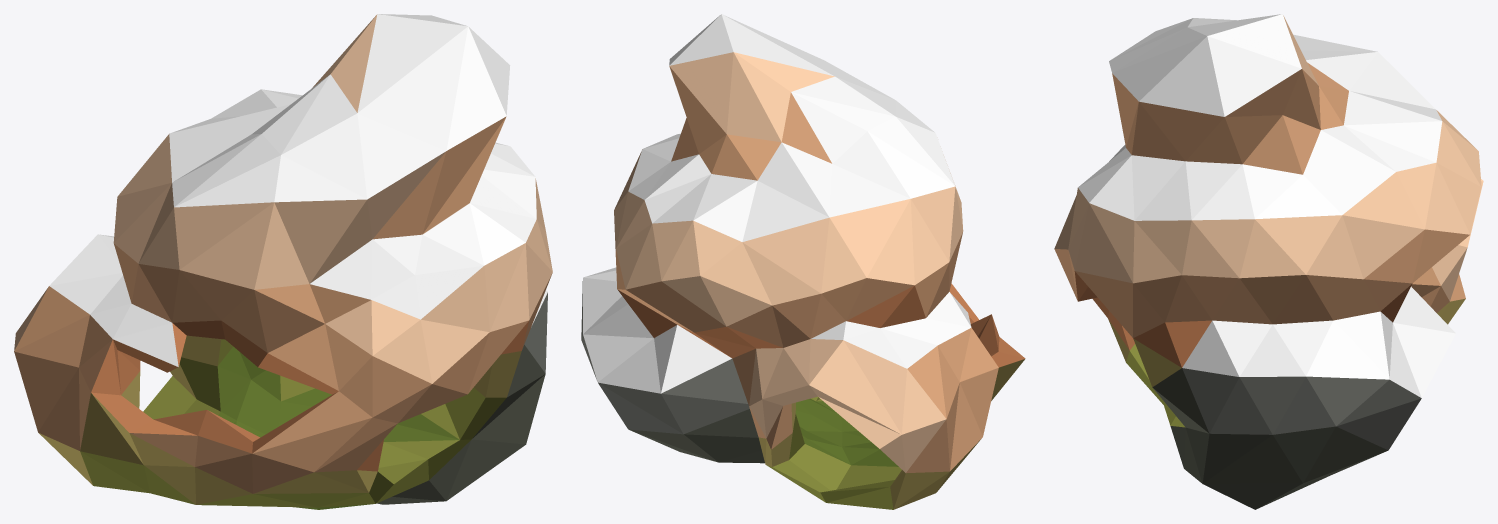
File: landmarkSeashell.fbx
The picture shows the model from 3 angles, left to right: view 1: azimuth 30°, elevation 25°; view 2: azimuth 150°, elevation 25°; view 3: azimuth 270°, elevation 25°; orthographic projection. The views are drawn at different scales.
Parts seen in each view (by area): view 1: shell, grass; view 2: shell, grass; view 3: shell, grass.
Part boxes in pixels (x1,y1,x2,y2): shell: (14, 14, 552, 509); grass: (49, 14, 547, 366); shell: (581, 52, 1025, 509); grass: (583, 14, 971, 393); shell: (1054, 15, 1483, 509); grass: (1078, 14, 1455, 397).
Bounding box in the file's own units: 11640 × 11484 × 9469.
2 materials, 2 textured.
